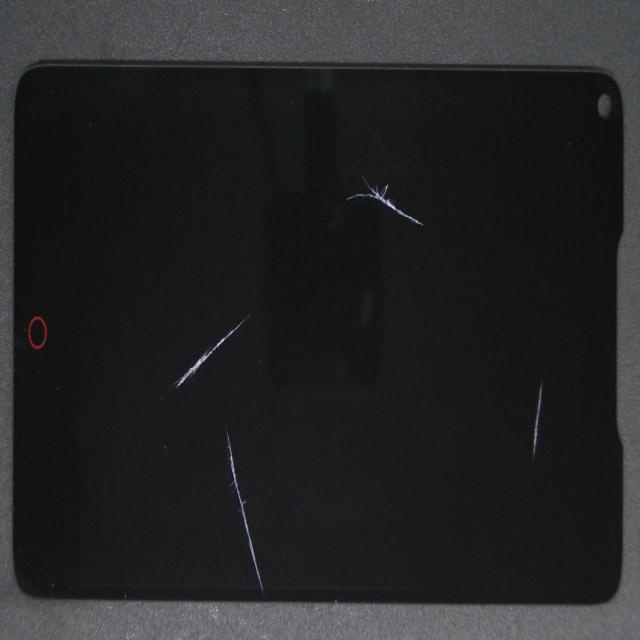scratch: (286, 229, 640, 573), (233, 68, 576, 248), (169, 119, 333, 490), (153, 390, 392, 640)
